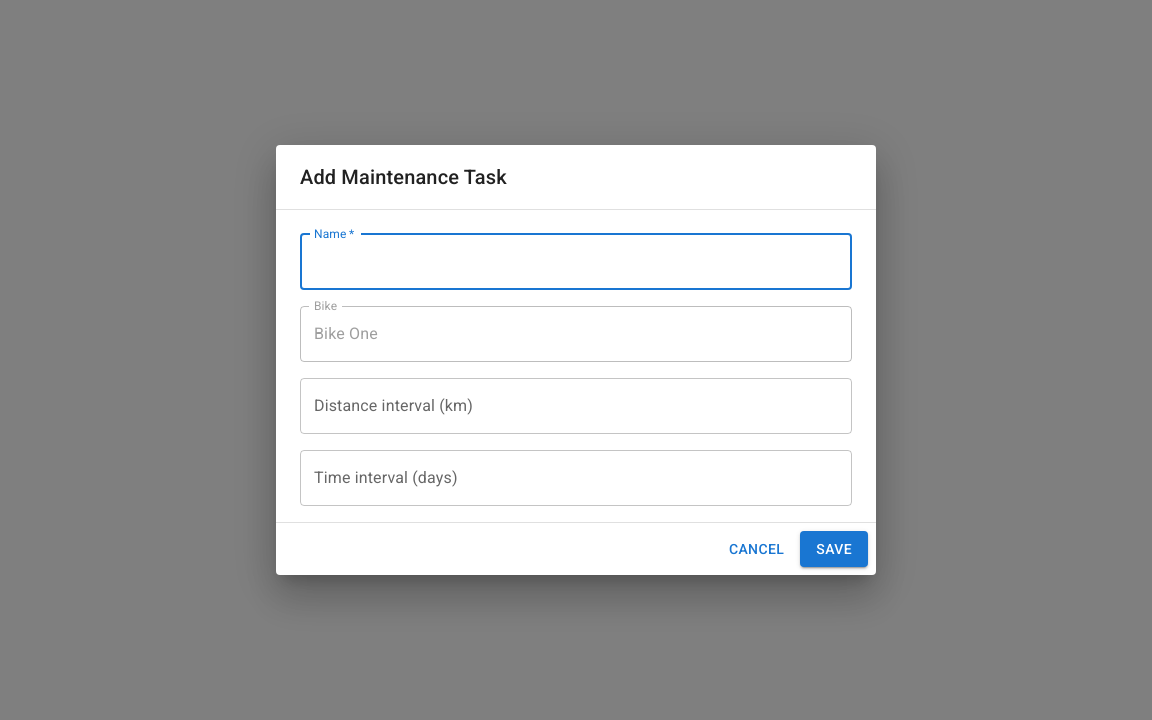
Test case: MaintenanceTaskForm › rejects a sub-unit interval that rounds to zero on the wire
Type "Chain wax" into the field labelled "Name *" at (576, 262), box [300, 234, 852, 290]
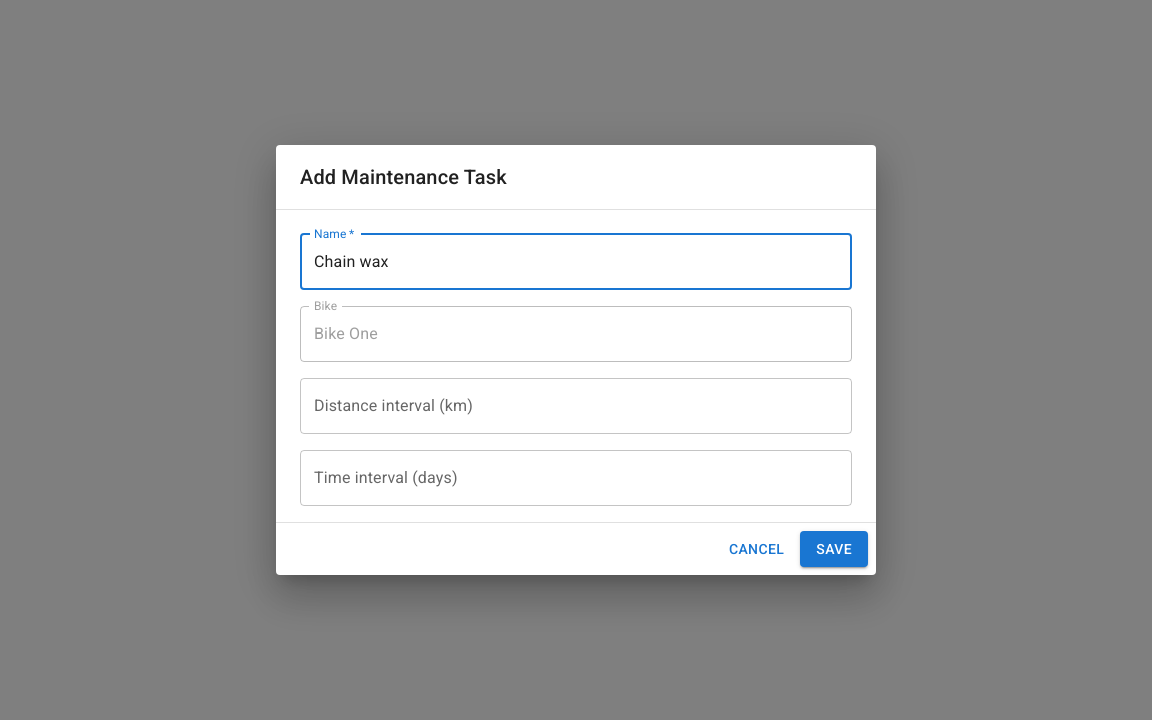
Type "0.0004" into the field labelled "Distance interval (km)" at (576, 406), box [300, 378, 852, 434]
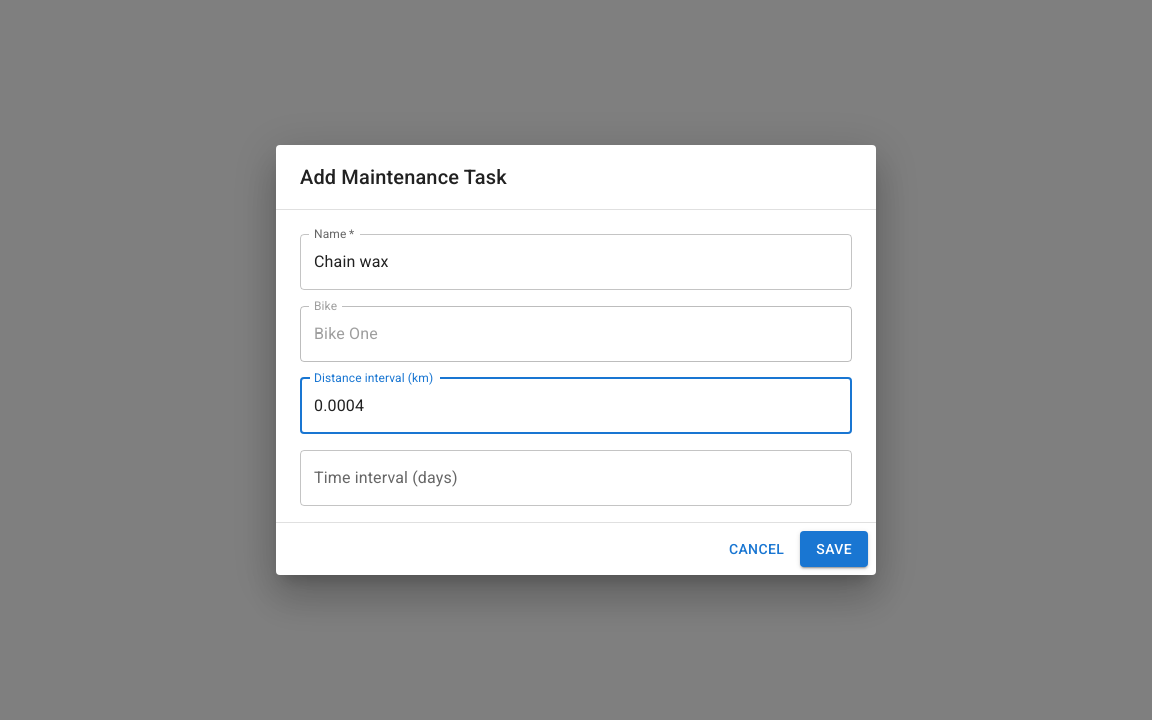
Click the button "Save" at (834, 549), box [800, 531, 868, 567]
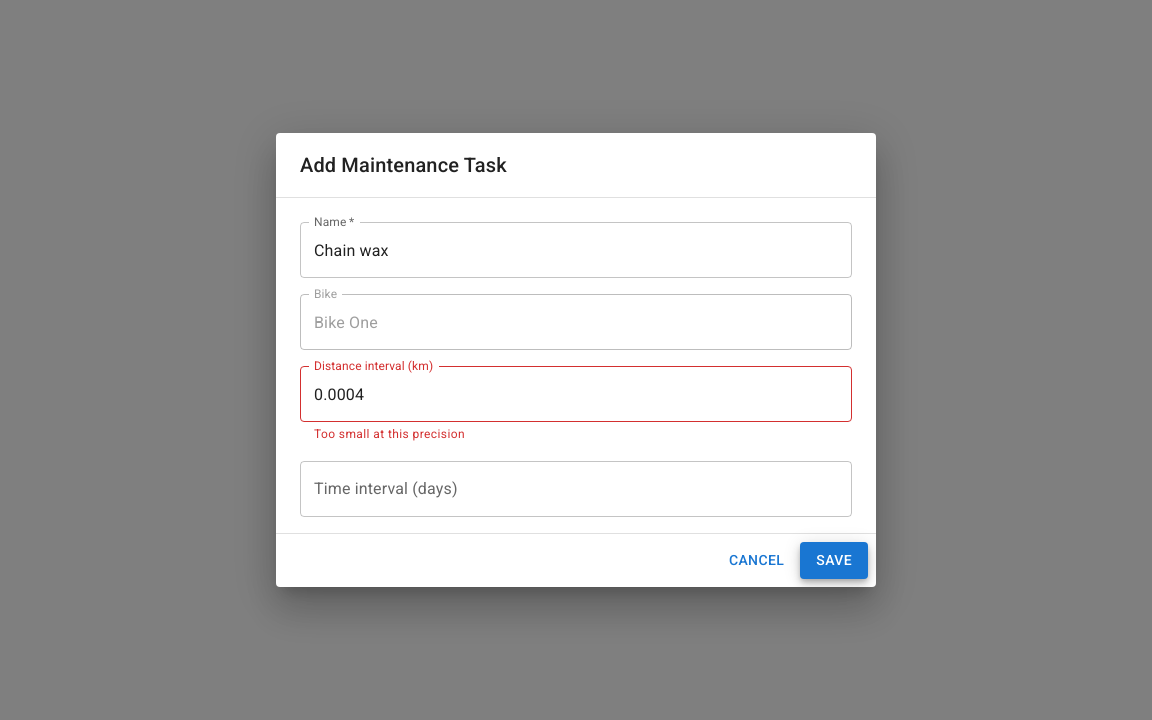
Result: the text "Too small at this precision" is shown at [314, 427, 465, 441]
